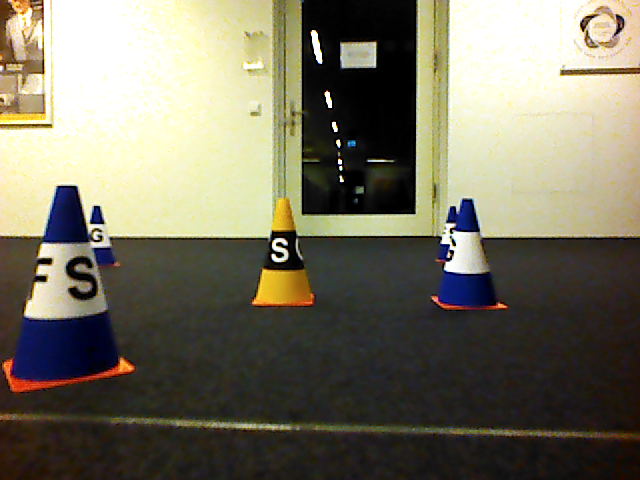bluecone: (8, 183, 135, 392), (443, 200, 511, 312)
yellowcone: (249, 198, 317, 309)
